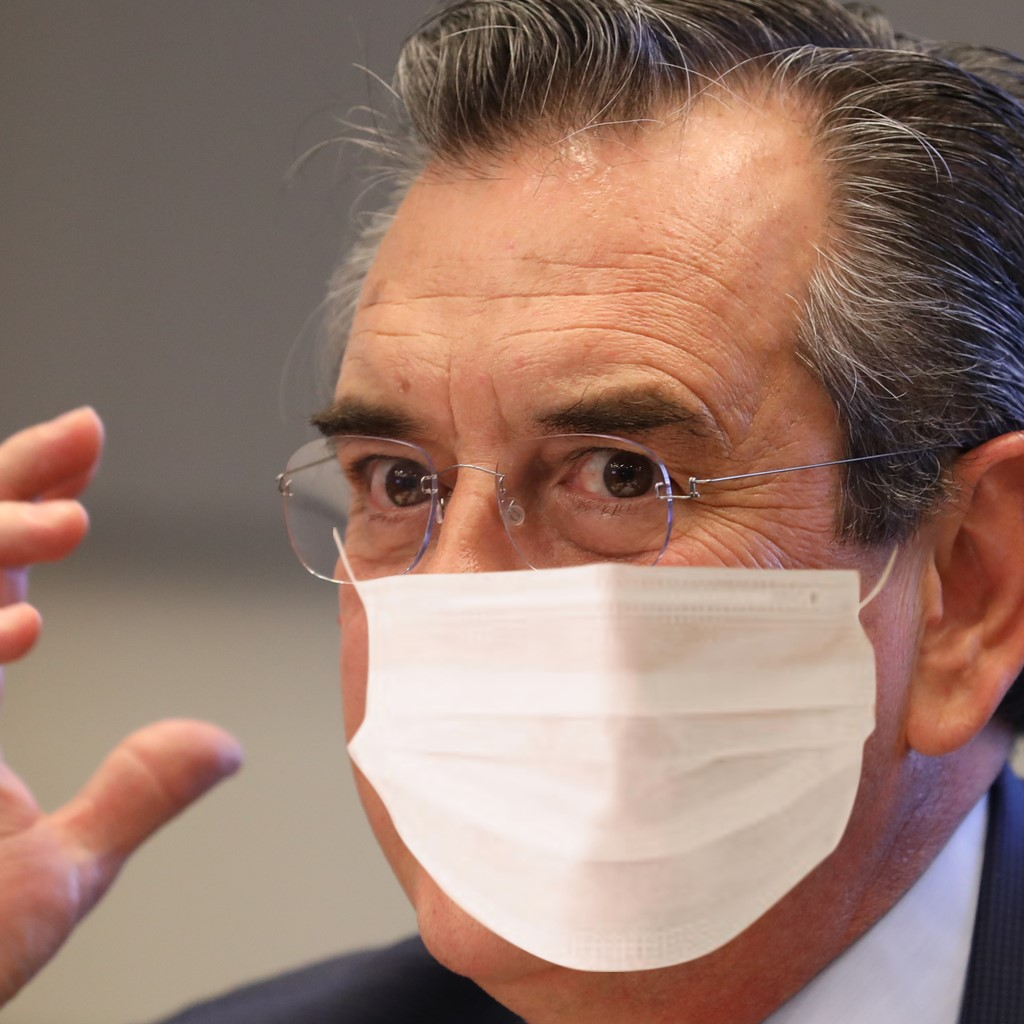con_mascara: (334, 133, 947, 980)
